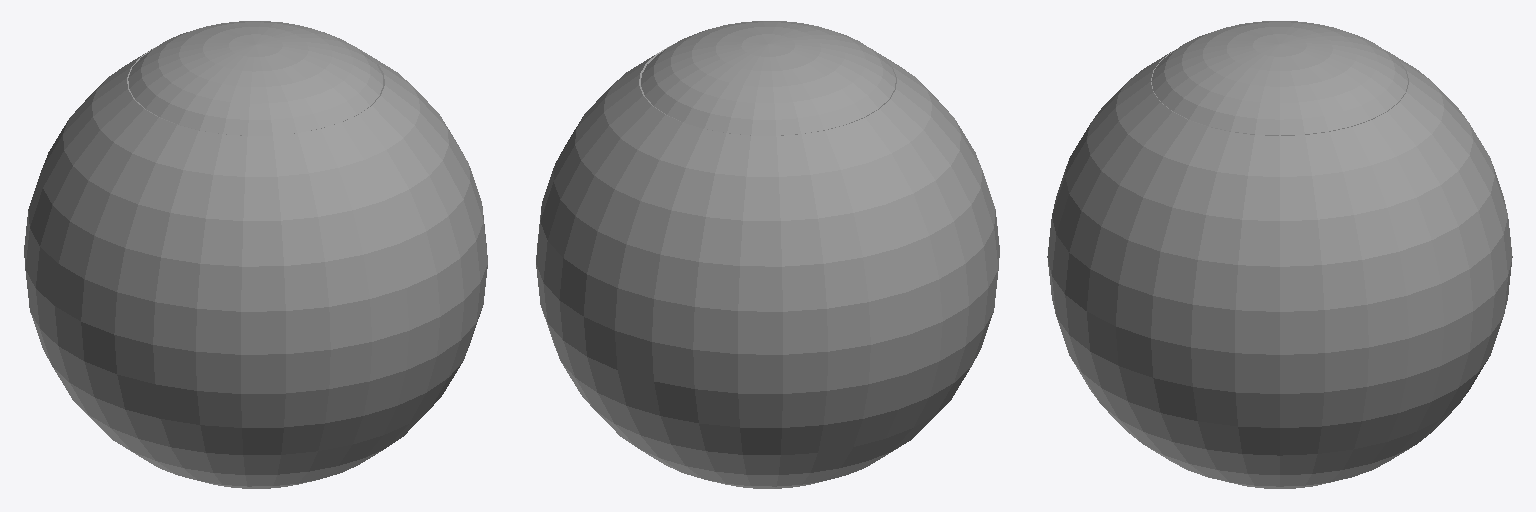
File: free_eye.obj
3 views of the same model, side by side, from view 1: azimuth 30°, elevation 25°; view 2: azimuth 150°, elevation 25°; view 3: azimuth 270°, elevation 25° (orthographic).
Parts seen in each view (by area): view 1: Sphere01, Sphere02; view 2: Sphere01, Sphere02; view 3: Sphere01, Sphere02.
Part boxes in pixels (x1,y1,x2,y2): Sphere01: (24, 45, 487, 488); Sphere02: (128, 21, 382, 135); Sphere01: (536, 22, 999, 488); Sphere02: (641, 21, 895, 135); Sphere01: (1047, 40, 1512, 488); Sphere02: (1152, 21, 1407, 135).
Size of the model in its own units: 0.9704 by 0.974 by 0.9704.